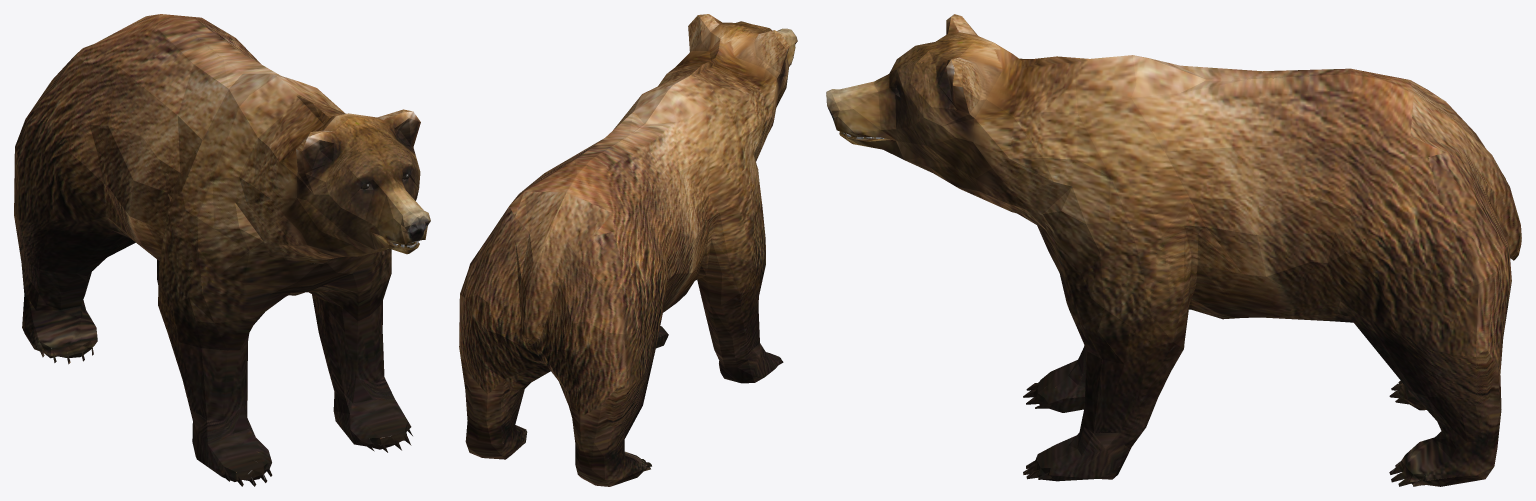
File: oso.obj
3 views of the same model, side by side, from view 1: azimuth 30°, elevation 25°; view 2: azimuth 150°, elevation 25°; view 3: azimuth 270°, elevation 25° (orthographic). The views are drawn at different scales.
Visible parts, largest first — view 1: BearFBXASC046001; view 2: BearFBXASC046001; view 3: BearFBXASC046001.
Part boxes in pixels (bbox=[...]): BearFBXASC046001: bbox=[14, 14, 430, 486]; BearFBXASC046001: bbox=[459, 14, 797, 486]; BearFBXASC046001: bbox=[826, 14, 1521, 486].
Bounding box in the file's own units: 2.94 × 4.81 × 7.58.
1 material, 1 textured.
